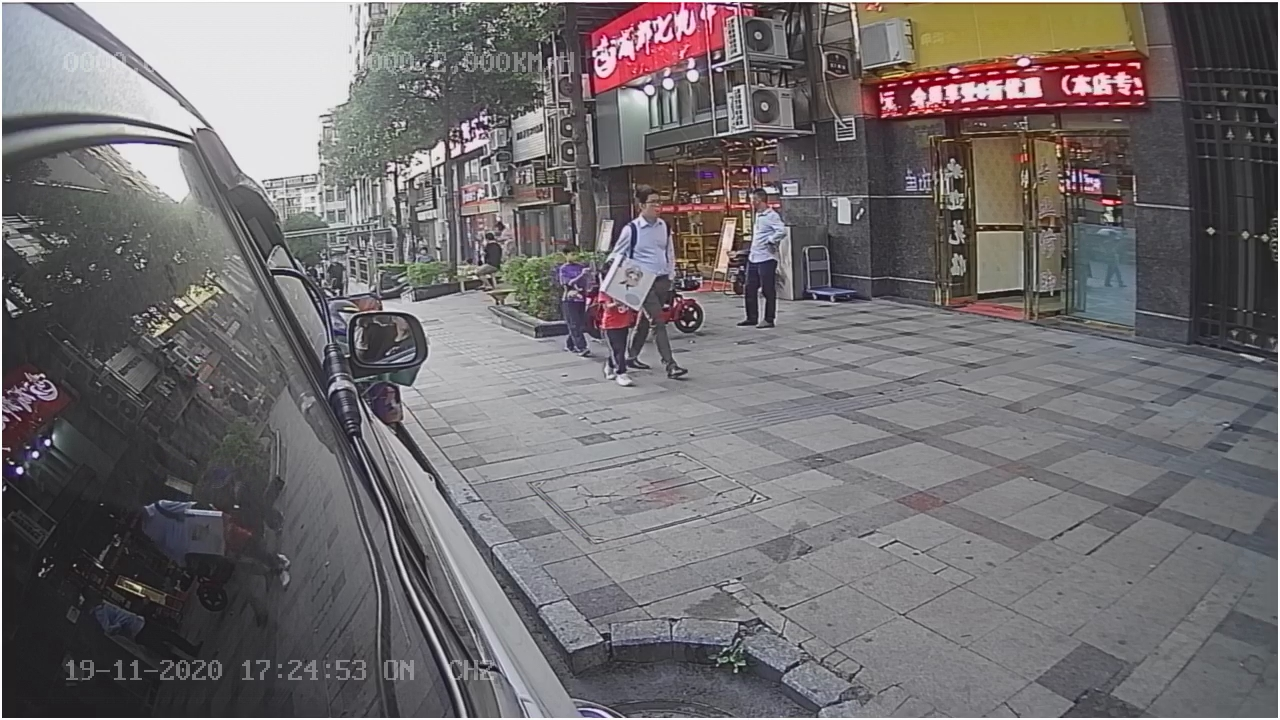person: (548, 236, 599, 363), (601, 181, 678, 263)
